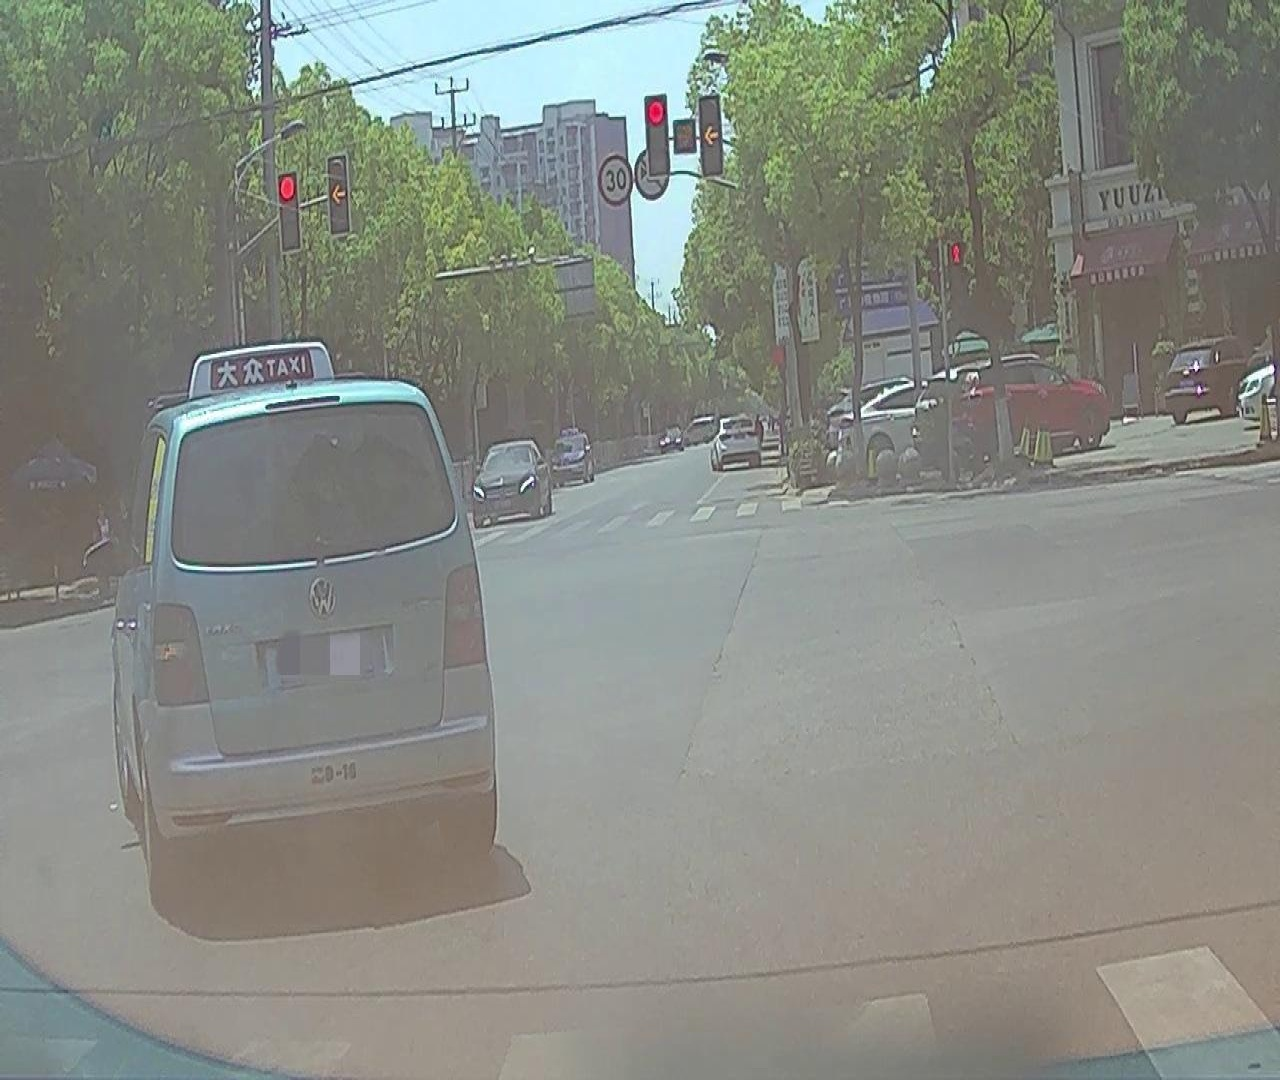red: (645, 96, 668, 178), (278, 174, 299, 250)
yellow: (698, 93, 721, 174), (329, 157, 348, 234)
